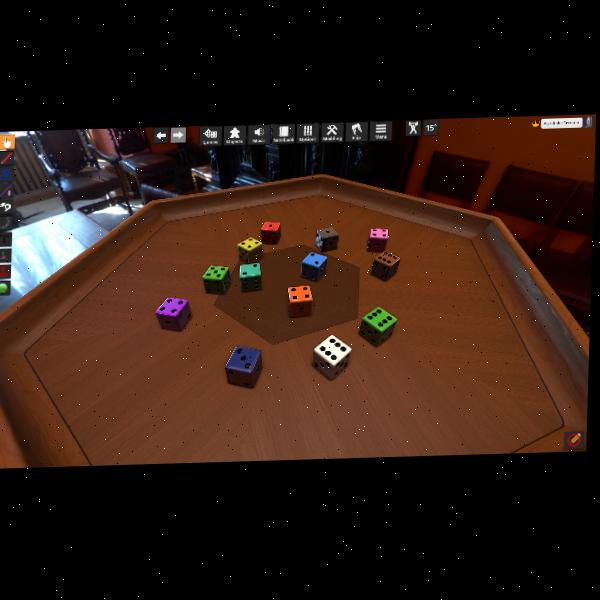d6: (224, 343, 264, 390), (312, 334, 350, 379), (359, 306, 397, 345), (155, 296, 192, 332), (369, 249, 400, 281), (286, 283, 314, 316), (202, 264, 229, 295), (301, 252, 327, 283), (237, 236, 264, 264), (239, 262, 262, 292), (314, 227, 337, 253), (367, 227, 388, 252), (260, 221, 280, 245)
